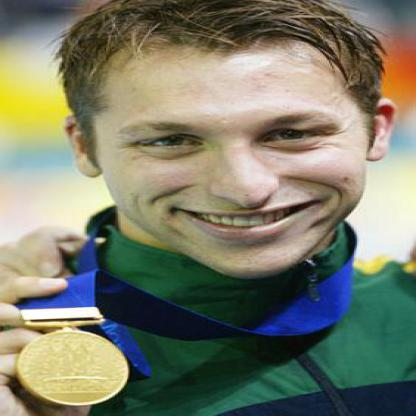face: (94, 1, 370, 282)
